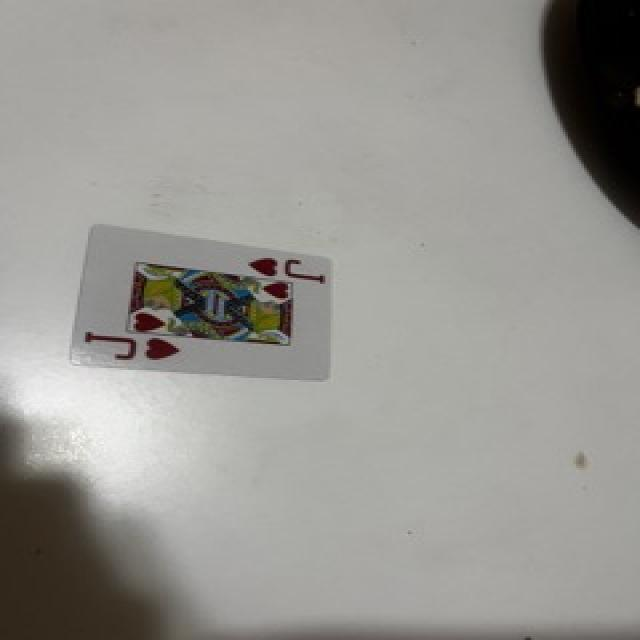Jack of hearts: (73, 225, 330, 379)
